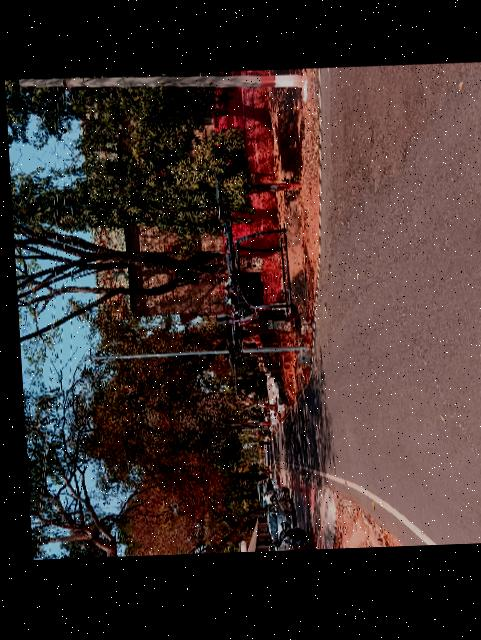drone: (183, 196, 303, 404)
